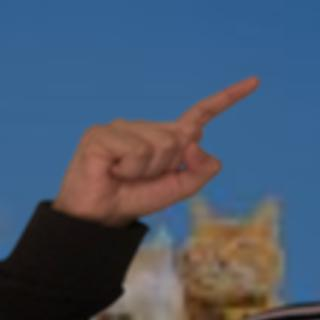WHY: (49, 66, 274, 223)
